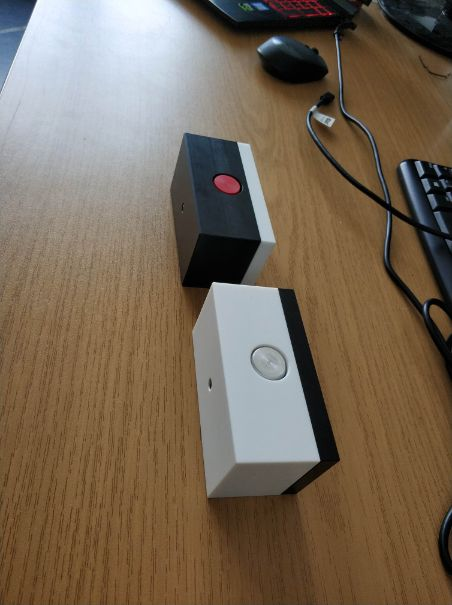black+white+silver: (190, 279, 345, 502)
white+black+red: (168, 131, 279, 290)
